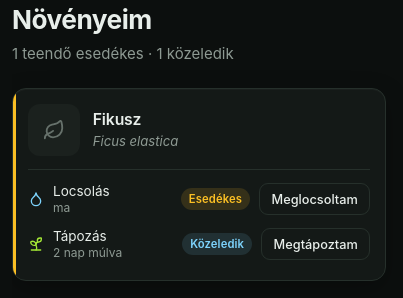
PlantsPage › AC4: "Meglocsoltam" records the event and shows the new schedule
The width and height of the screenshot is (403, 298).
Click the button "Meglocsoltam".
click(315, 199)  # box [259,183,370,215]
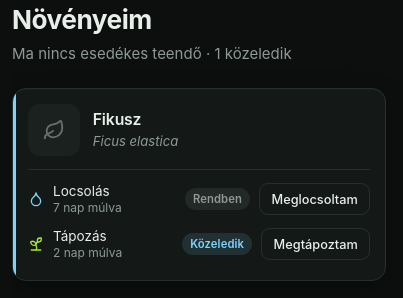
Check: the text "Rendben" is shown, box [185,188,250,210]
Check: the element with test id "task-watering" shows "7 nap múlva", box [53,200,122,215]
